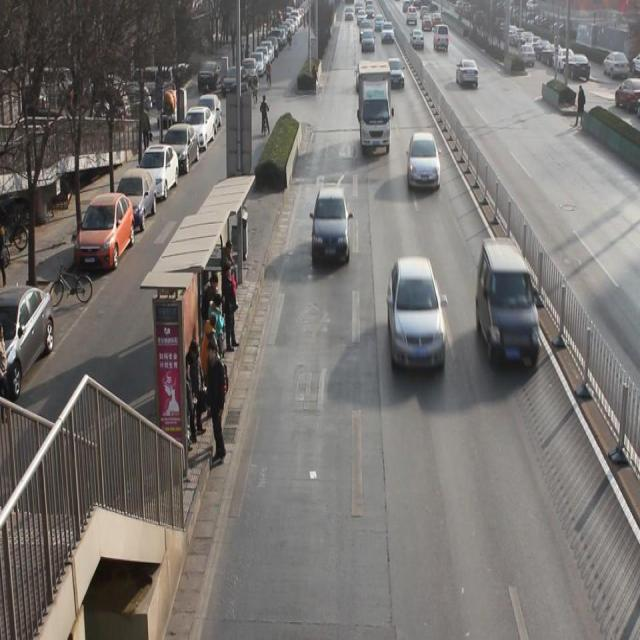bus: (358, 70, 393, 154)
car: (479, 240, 542, 369), (386, 262, 449, 366), (314, 188, 351, 258), (409, 133, 440, 188), (456, 58, 480, 93), (386, 56, 408, 92), (361, 29, 375, 54), (382, 23, 396, 45)
